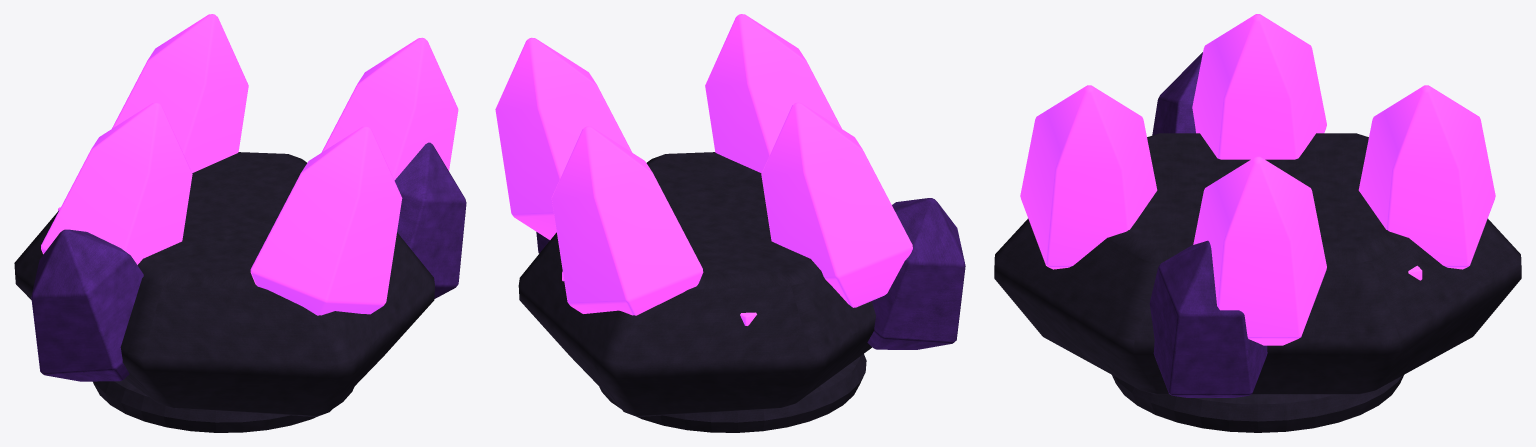
File: conclave_germe_de_base.gltf
3 views of the same model, side by side, from view 1: azimuth 30°, elevation 25°; view 2: azimuth 150°, elevation 25°; view 3: azimuth 270°, elevation 25° (orthographic). The views are drawn at different scales.
Visible parts, largest first — view 1: Body.002_Geometry, Deploy_3_Geometry, Deploy_2_Geometry, Deploy_1_Geometry, Deploy_0_Geometry; view 2: Body.002_Geometry, Deploy_1_Geometry, Deploy_2_Geometry, Deploy_0_Geometry, Deploy_3_Geometry; view 3: Body.002_Geometry, Deploy_3_Geometry, Deploy_1_Geometry, Deploy_0_Geometry, Deploy_2_Geometry.
Part boxes in pixels (bbox=[...]): Body.002_Geometry: bbox=[14, 142, 466, 432]; Deploy_3_Geometry: bbox=[250, 126, 402, 315]; Deploy_2_Geometry: bbox=[41, 102, 192, 264]; Deploy_1_Geometry: bbox=[112, 14, 248, 173]; Deploy_0_Geometry: bbox=[321, 37, 458, 180]; Body.002_Geometry: bbox=[518, 152, 965, 432]; Deploy_1_Geometry: bbox=[551, 126, 703, 315]; Deploy_2_Geometry: bbox=[761, 102, 912, 307]; Deploy_0_Geometry: bbox=[495, 37, 632, 239]; Deploy_3_Geometry: bbox=[705, 14, 841, 173]; Body.002_Geometry: bbox=[994, 52, 1521, 432]; Deploy_3_Geometry: bbox=[1020, 85, 1157, 269]; Deploy_1_Geometry: bbox=[1358, 85, 1495, 269]; Deploy_0_Geometry: bbox=[1193, 156, 1326, 345]; Deploy_2_Geometry: bbox=[1192, 14, 1326, 159].
Bounding box in the file's own units: 1.86 × 1.21 × 1.78.
3 materials, 2 textured.
